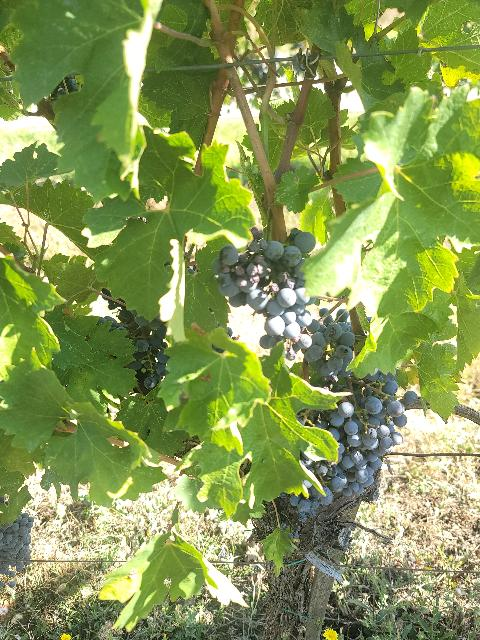grapes: (211, 228, 315, 349), (331, 370, 418, 486), (304, 322, 355, 378)
